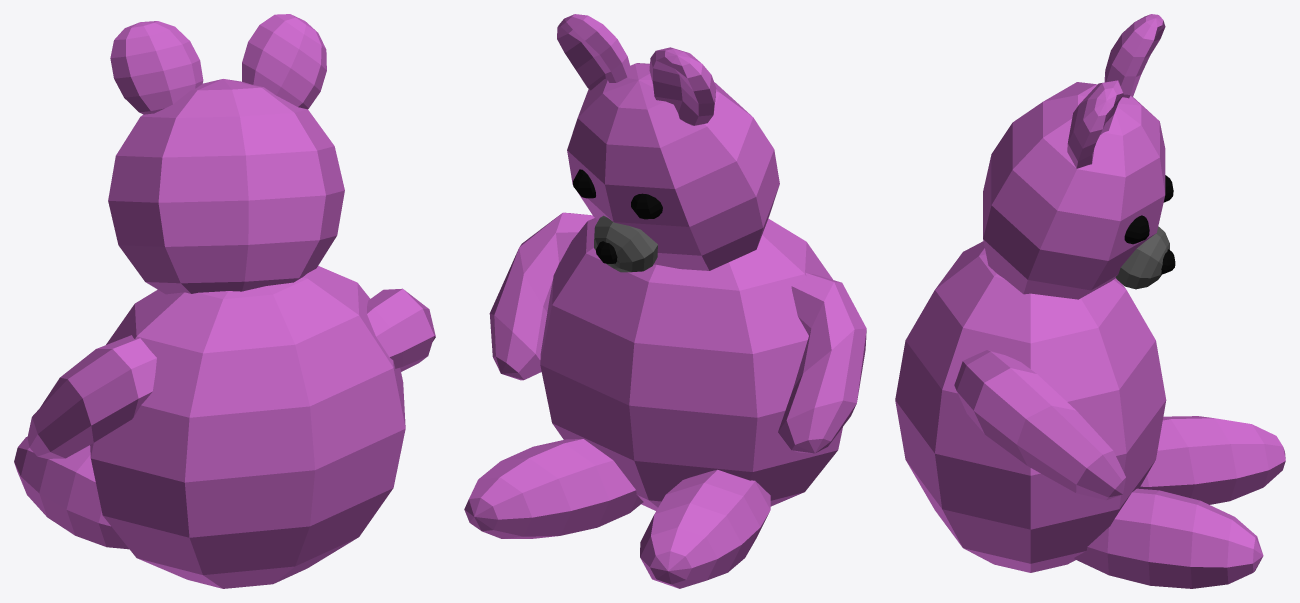
The model's file is teddycombined.fbx.
3 views of the same model, side by side, from view 1: azimuth 30°, elevation 25°; view 2: azimuth 150°, elevation 25°; view 3: azimuth 270°, elevation 25° (orthographic).
Parts seen in each view (by area): view 1: office_stuff:pSphere20; view 2: office_stuff:pSphere20; view 3: office_stuff:pSphere20.
Boxes of the visible parts, x1,y1,x2,y2 form: office_stuff:pSphere20: (14, 14, 435, 588); office_stuff:pSphere20: (464, 14, 866, 588); office_stuff:pSphere20: (895, 14, 1285, 588).
Size of the model in its own units: 4.57 by 6.17 by 4.22.
